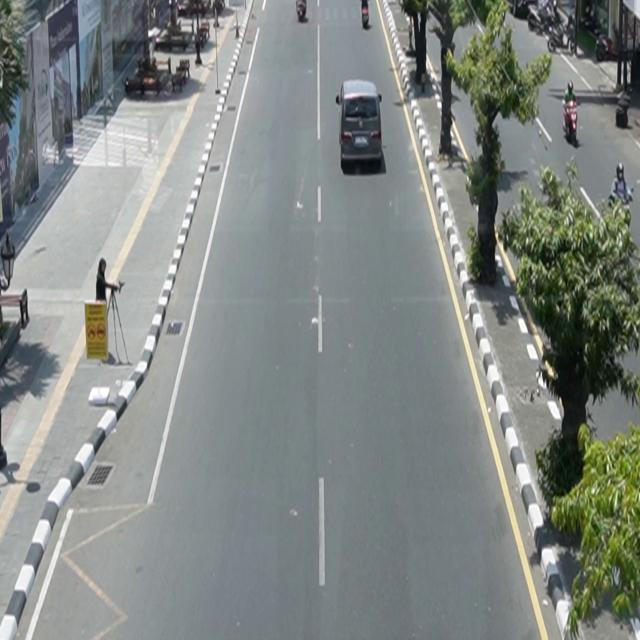car: (337, 80, 384, 172)
